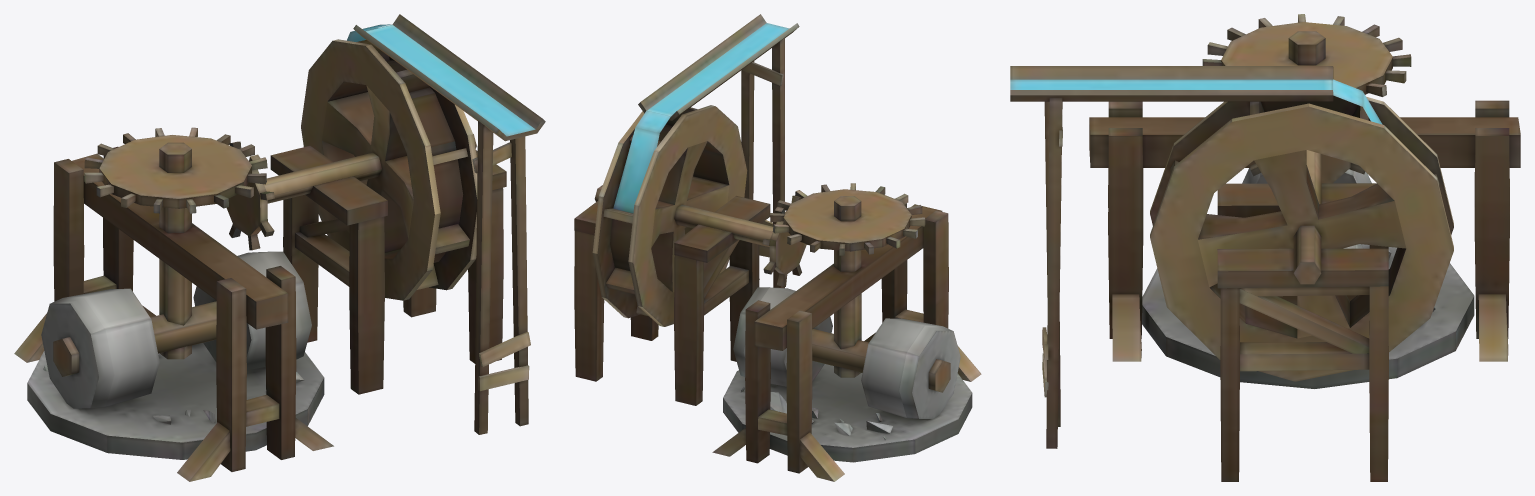
File: stone-crusher.lod1.glb
3 views of the same model, side by side, from view 1: azimuth 30°, elevation 25°; view 2: azimuth 150°, elevation 25°; view 3: azimuth 270°, elevation 25° (orthographic). The views are drawn at different scales.
Visible parts, largest first — view 1: Object_2; view 2: Object_2; view 3: Object_2.
Boxes of the visible parts, x1=… form: Object_2: x1=14, y1=14, x2=545, y2=481; Object_2: x1=574, y1=14, x2=981, y2=481; Object_2: x1=1010, y1=14, x2=1520, y2=481.
Bounding box in the file's own units: 9 × 6.54 × 8.34.
Materials: 1 (1 with a texture image).
